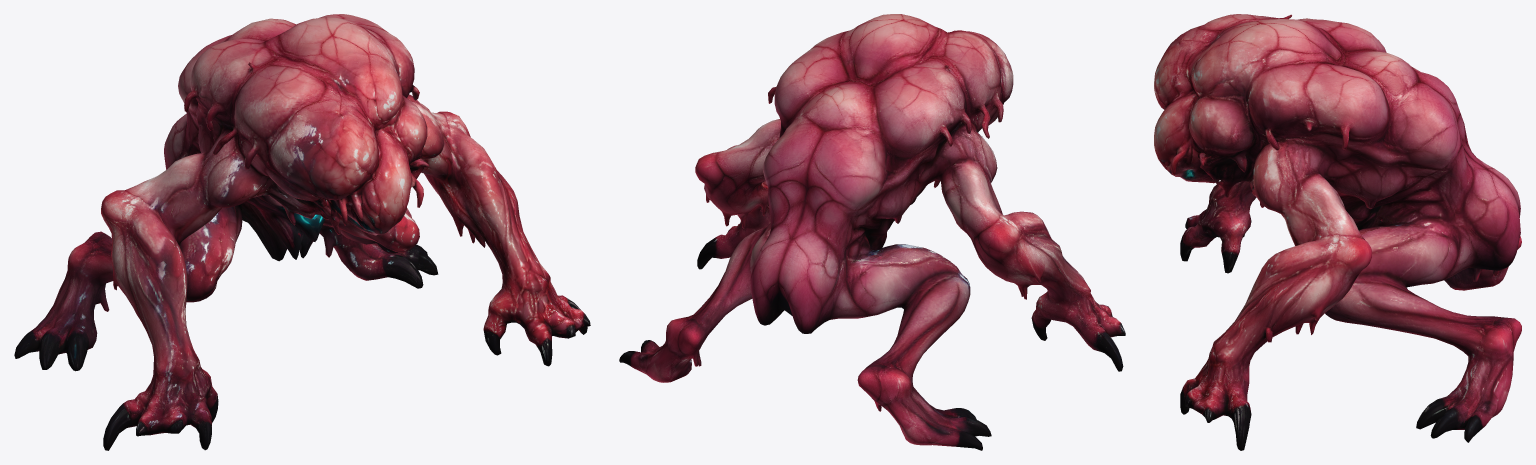
Rendered from Meshy_AI_xanafalgue_0302021559_texture.fbx.
3 views of the same model, side by side, from view 1: azimuth 30°, elevation 25°; view 2: azimuth 150°, elevation 25°; view 3: azimuth 270°, elevation 25° (orthographic). The views are drawn at different scales.
Visible parts, largest first — view 1: Mesh_0; view 2: Mesh_0; view 3: Mesh_0.
Part boxes in pixels (left/top/right/bottom): Mesh_0: left=14, top=14, right=590, bottom=450; Mesh_0: left=619, top=14, right=1125, bottom=450; Mesh_0: left=1154, top=14, right=1521, bottom=450.
Size of the model in its own units: 191 by 136 by 137.
1 material, 1 textured.
